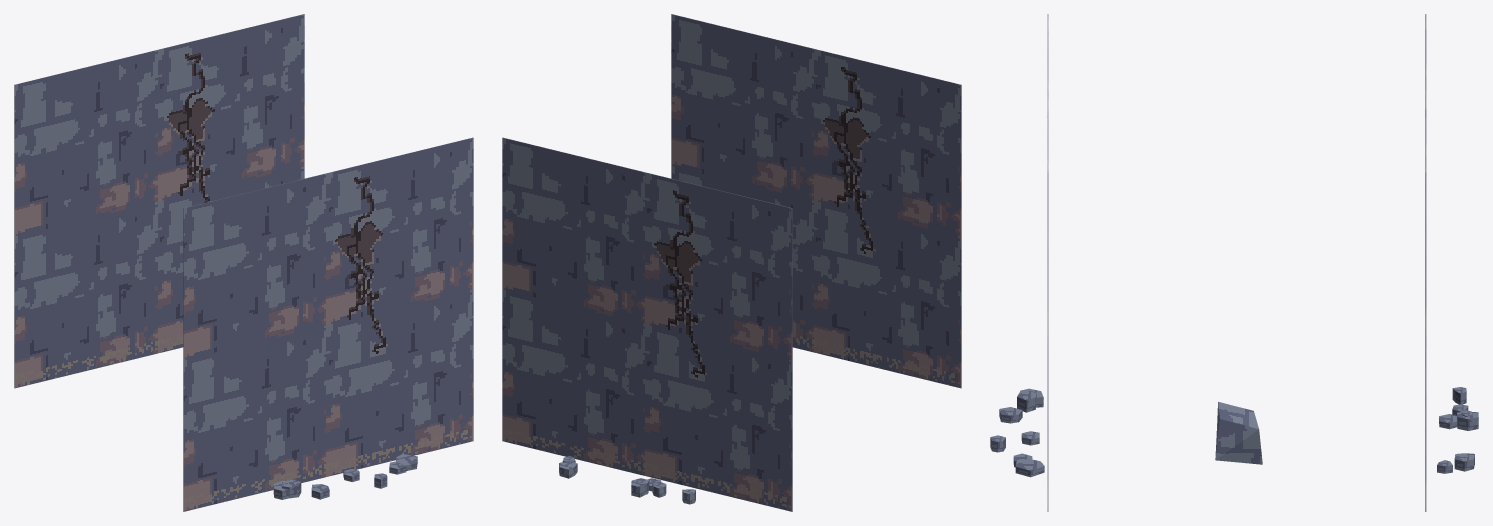
The model's file is cracked_wall_a.glb.
3 views of the same model, side by side, from view 1: azimuth 30°, elevation 25°; view 2: azimuth 150°, elevation 25°; view 3: azimuth 270°, elevation 25° (orthographic). The views are drawn at different scales.
Parts seen in each view (by area): view 1: panel_front, panel_back, debris_front; view 2: panel_back, panel_front, debris_back; view 3: chunk, debris_front, debris_back, panel_back, panel_front.
Boxes of the visible parts, box(x1,y1,x2,y2) form: panel_front: box(183, 137, 473, 511); panel_back: box(14, 14, 304, 388); debris_front: box(273, 454, 417, 499); panel_back: box(502, 137, 792, 511); panel_front: box(671, 14, 961, 388); debris_back: box(559, 455, 695, 504); chunk: box(1215, 402, 1262, 464); debris_front: box(990, 388, 1044, 477); debris_back: box(1437, 387, 1478, 473); panel_back: box(1425, 14, 1426, 511); panel_front: box(1047, 14, 1048, 511).
Size of the model in its own units: 2 by 2.14 by 2.61.
1 material, 1 textured.
